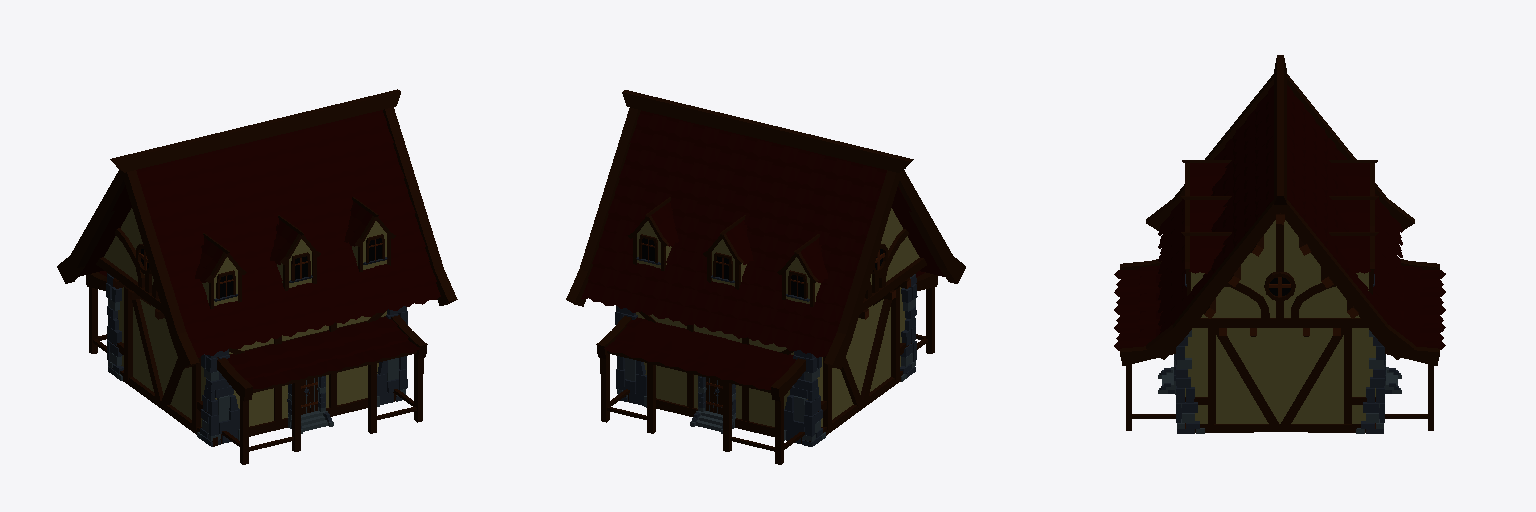
Rendered from Inn_Cube.obj.
The picture shows the model from 3 angles: view 1: azimuth 30°, elevation 25°; view 2: azimuth 150°, elevation 25°; view 3: azimuth 270°, elevation 25°; orthographic projection.
Visible parts, largest first — view 1: Inn_Cube.393; view 2: Inn_Cube.393; view 3: Inn_Cube.393.
Part boxes in pixels (x1,y1,x2,y2): Inn_Cube.393: (57,89,457,464); Inn_Cube.393: (566,90,965,464); Inn_Cube.393: (1114,55,1445,433).
Bounding box in the file's own units: 4.03 × 3.49 × 4.02.